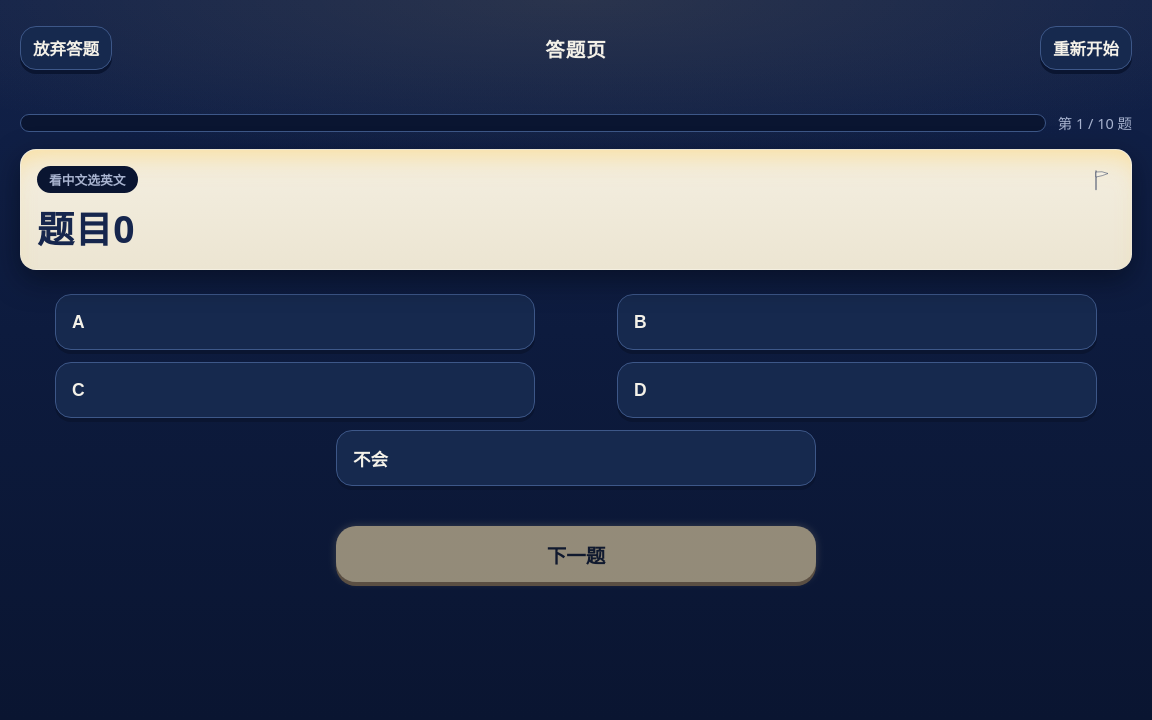
Test: AC-R7-2 放弃二次确认弹窗 › 点放弃 → 弹 role="dialog" + aria-modal，含确认文案与确认/取消两按钮；未处理前会话未作废
Click the button with class "star-option" showing "A". click: (78, 322)
box: 55,294 -> 535,350
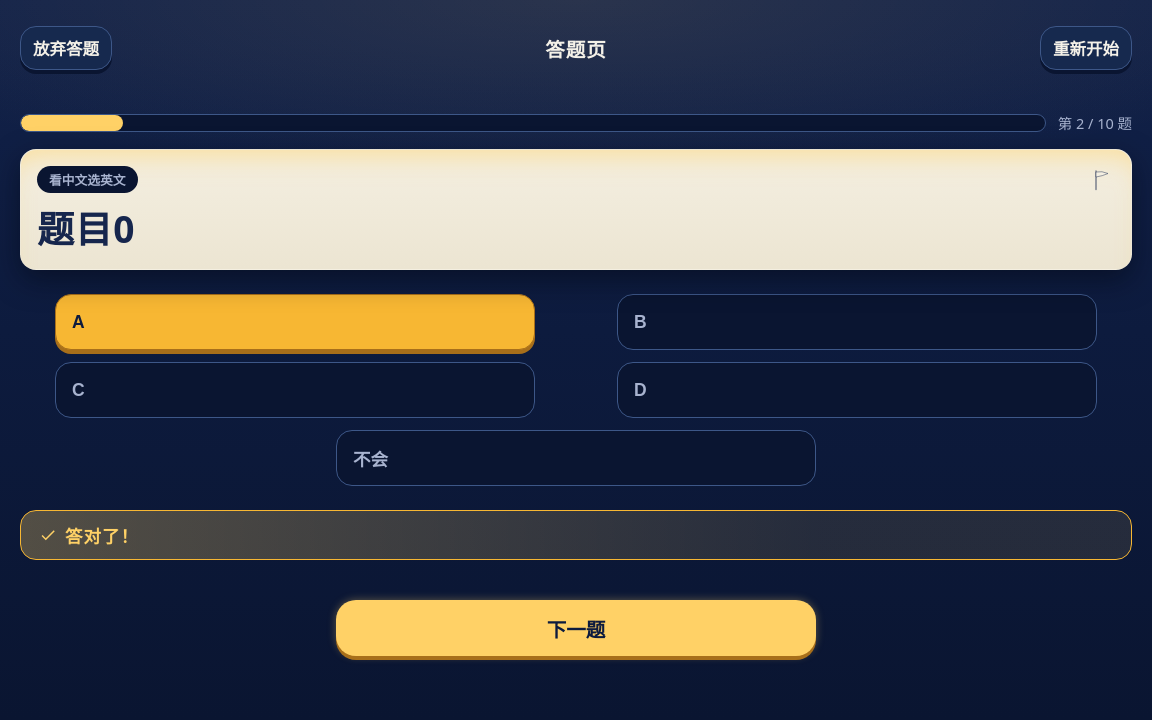
Click the button with class "abandon-btn". click: (66, 48)
box: 20,26 -> 112,70
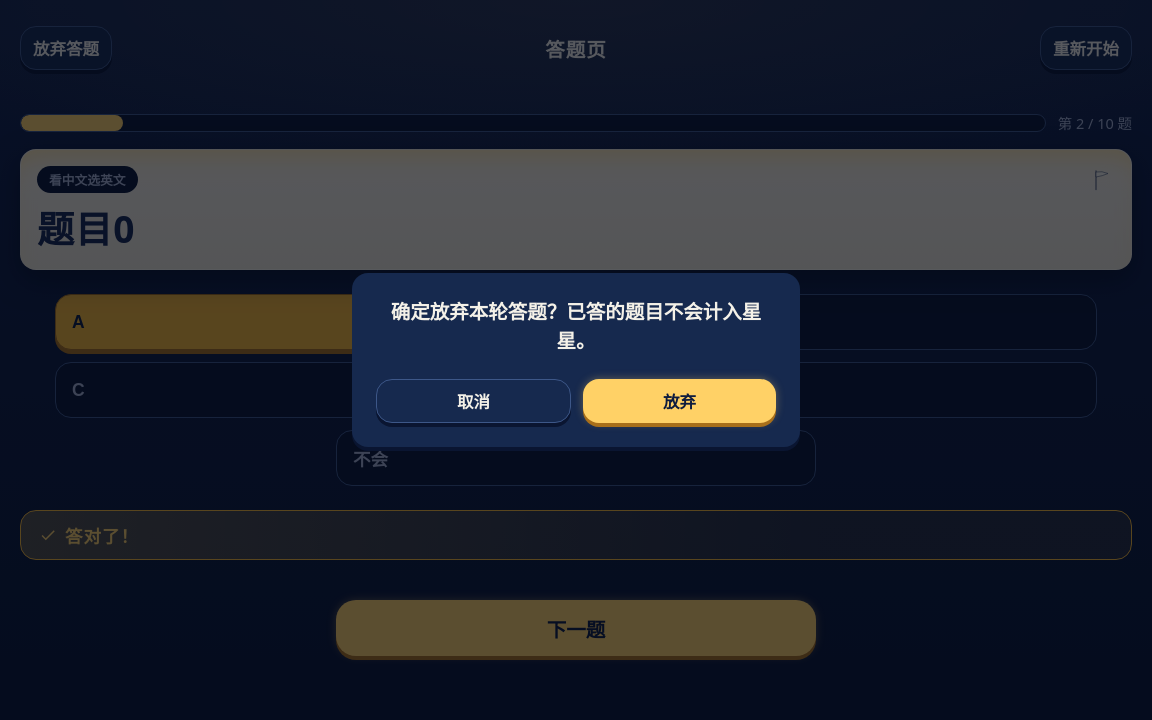
Expected: the dialog shows "放弃", 583,379 -> 776,423
Expected: the button with class "star-button--standard" reads "取消", 376,379 -> 571,423
Expected: the button with class "star-button--primary" reads "放弃", 583,379 -> 776,423
